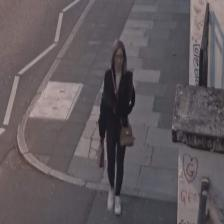person: (98, 39, 135, 215)
